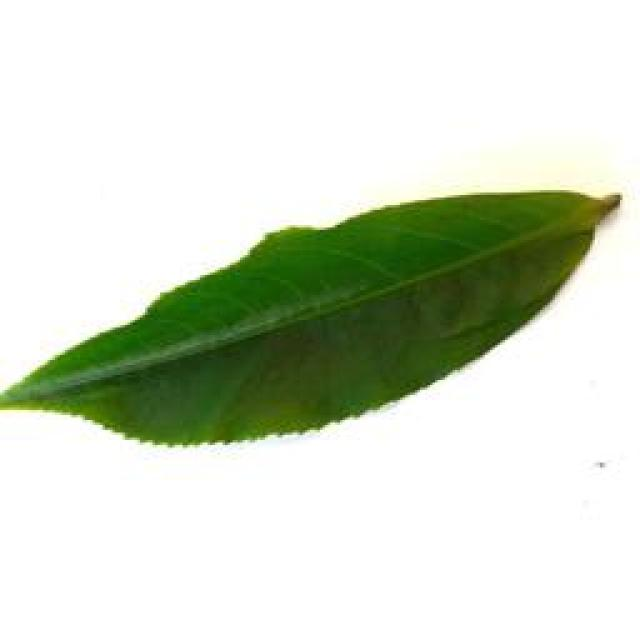Healthy: (0, 186, 618, 447)
